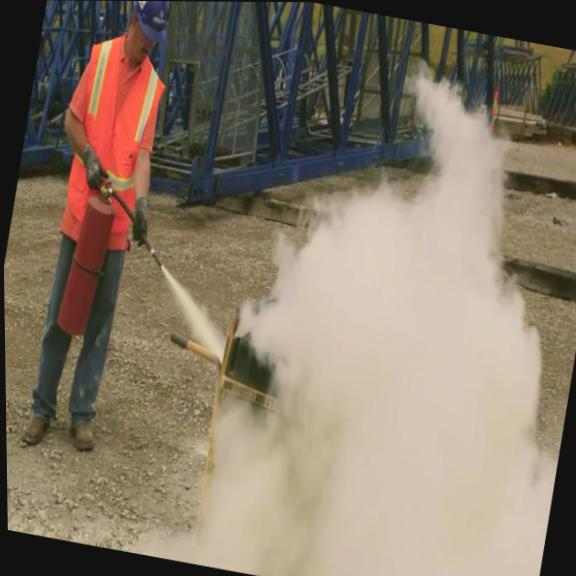safety_vest: (55, 28, 177, 241)
